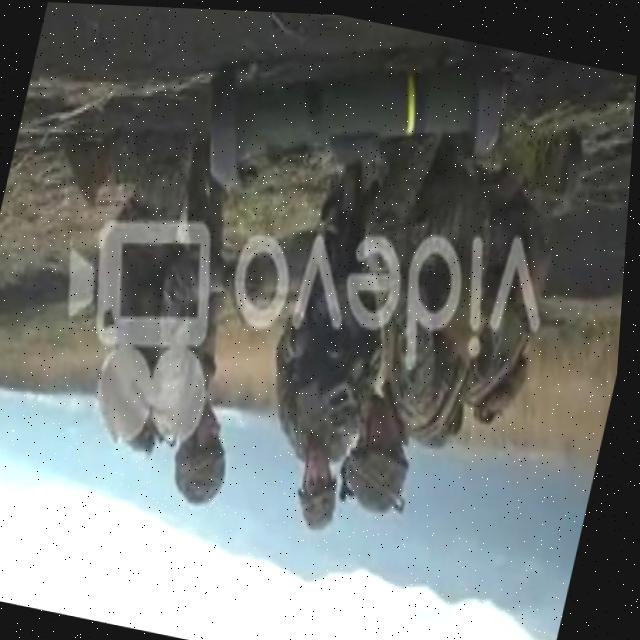rocket: (179, 7, 534, 243)
